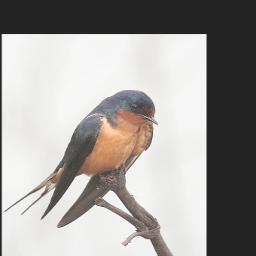Swallow: (5, 88, 160, 228)
